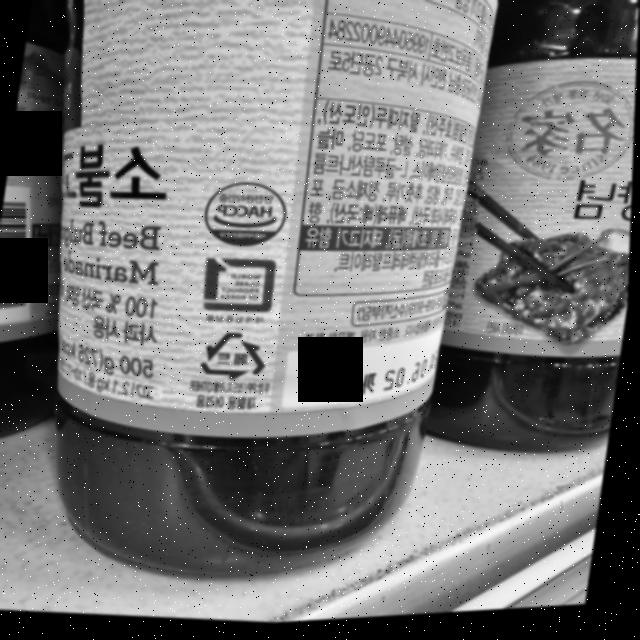PET: (199, 327, 276, 390)
